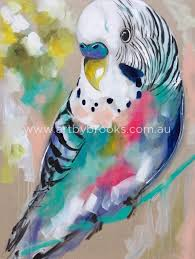budgie: (9, 1, 183, 259)
